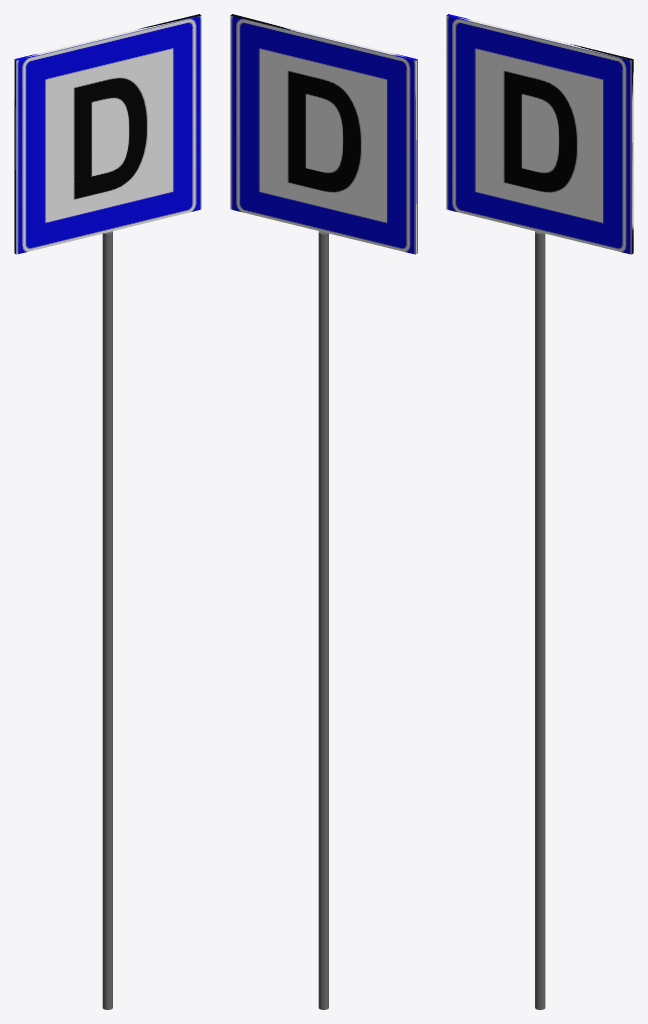
The model's file is kare_tabela.dae.
3 renders of one model, left to right at view 1: azimuth 30°, elevation 25°; view 2: azimuth 150°, elevation 25°; view 3: azimuth 330°, elevation 25°, orthographic.
Visible parts, largest first — view 1: Kare İşaret; view 2: Kare İşaret; view 3: Kare İşaret.
Boxes of the visible parts, x1,y1,x2,y2 form: Kare İşaret: [14, 14, 201, 1009]; Kare İşaret: [230, 14, 417, 1009]; Kare İşaret: [446, 14, 633, 1009].
Bounding box in the file's own units: 0.5 × 0.0242 × 2.5.
Materials: 2 (1 with a texture image).
